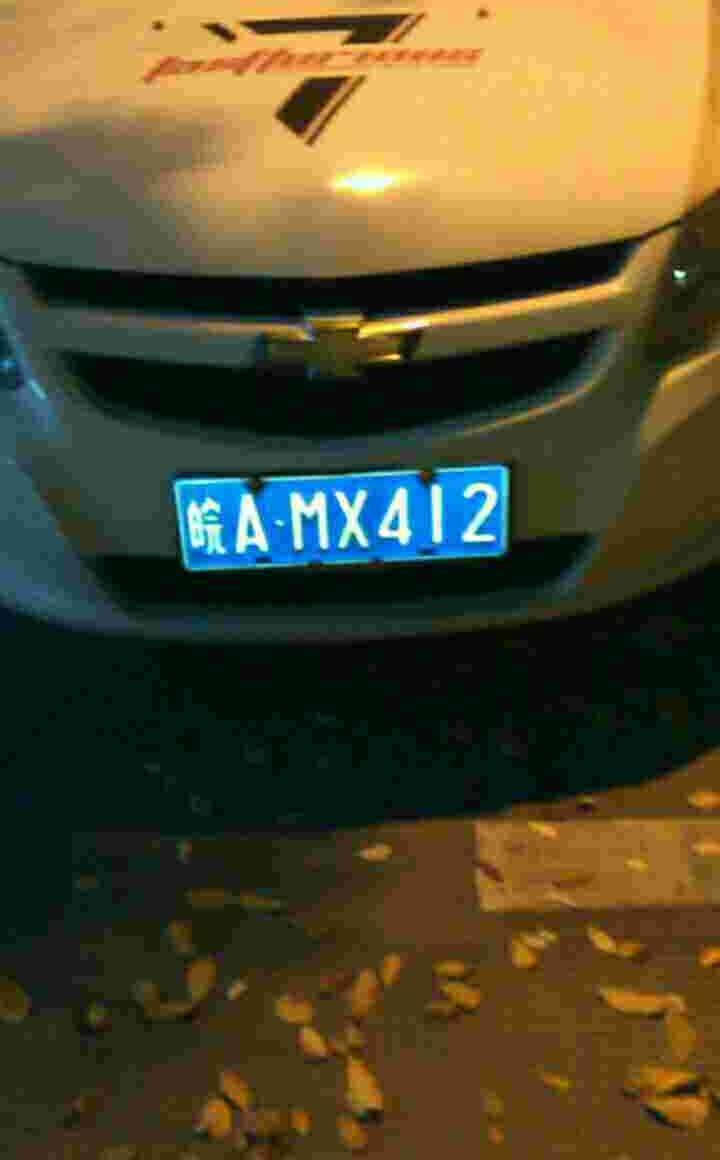license_plate: (174, 470, 507, 580)
